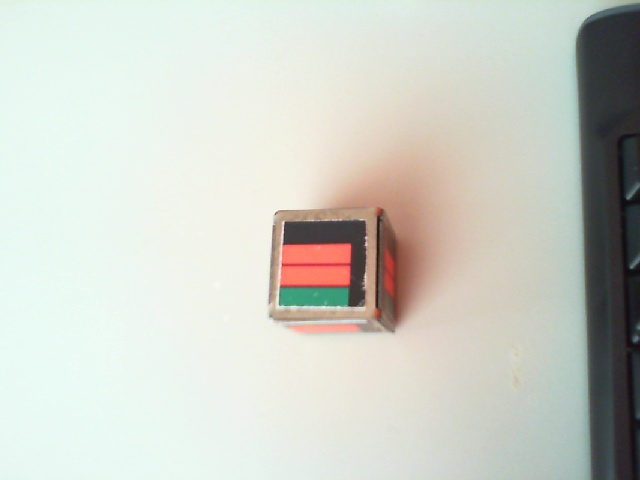square: (281, 221, 366, 309)
